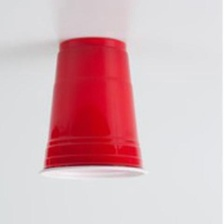glass: (34, 29, 154, 183)
